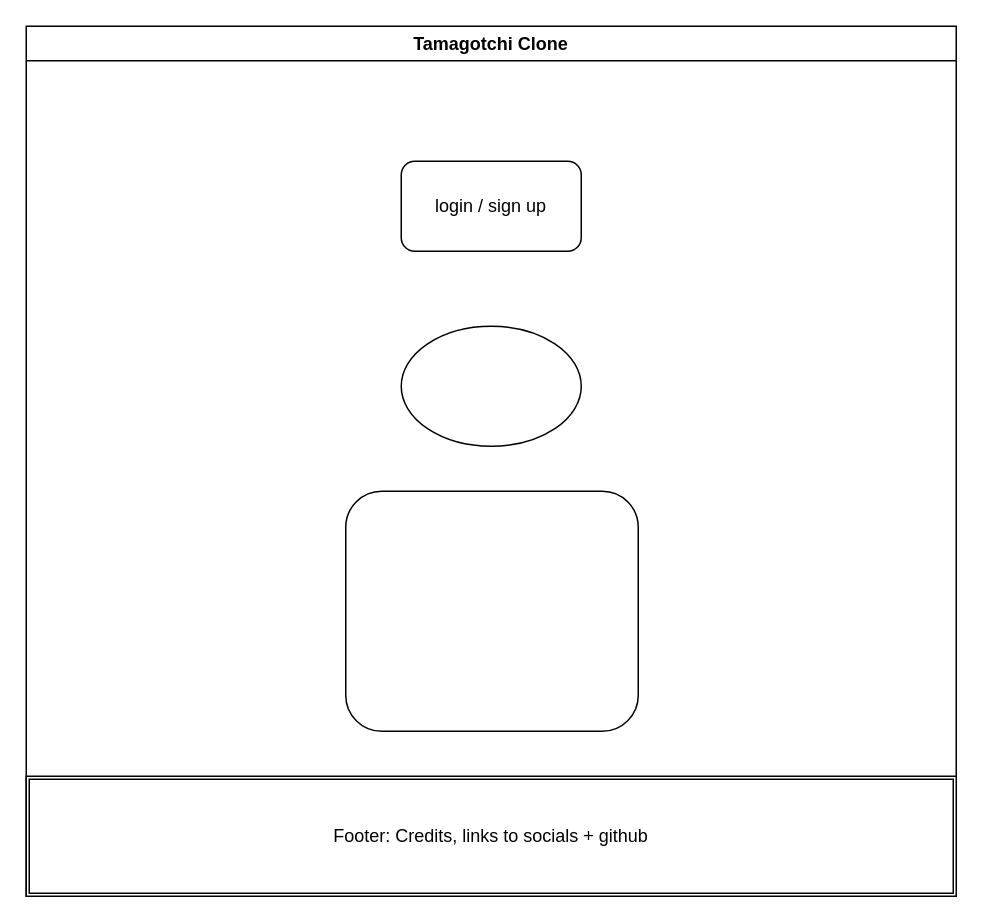
Some shapes in this 983 by 923 pixel diagram are drawn without their labels. The shapes that lost their labels are listed below. From the top down, each one's centre as x and y in pixels, then its label:
the point at 490,385: sprite from a random tamagotchi
the point at 491,610: there are [total number of tamagotchis] friends waiting for you!
